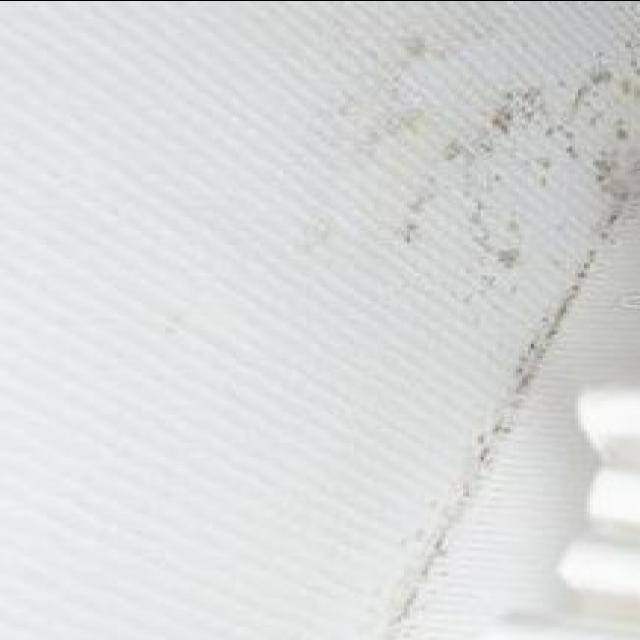leak: (395, 252, 595, 640), (379, 27, 640, 249)
